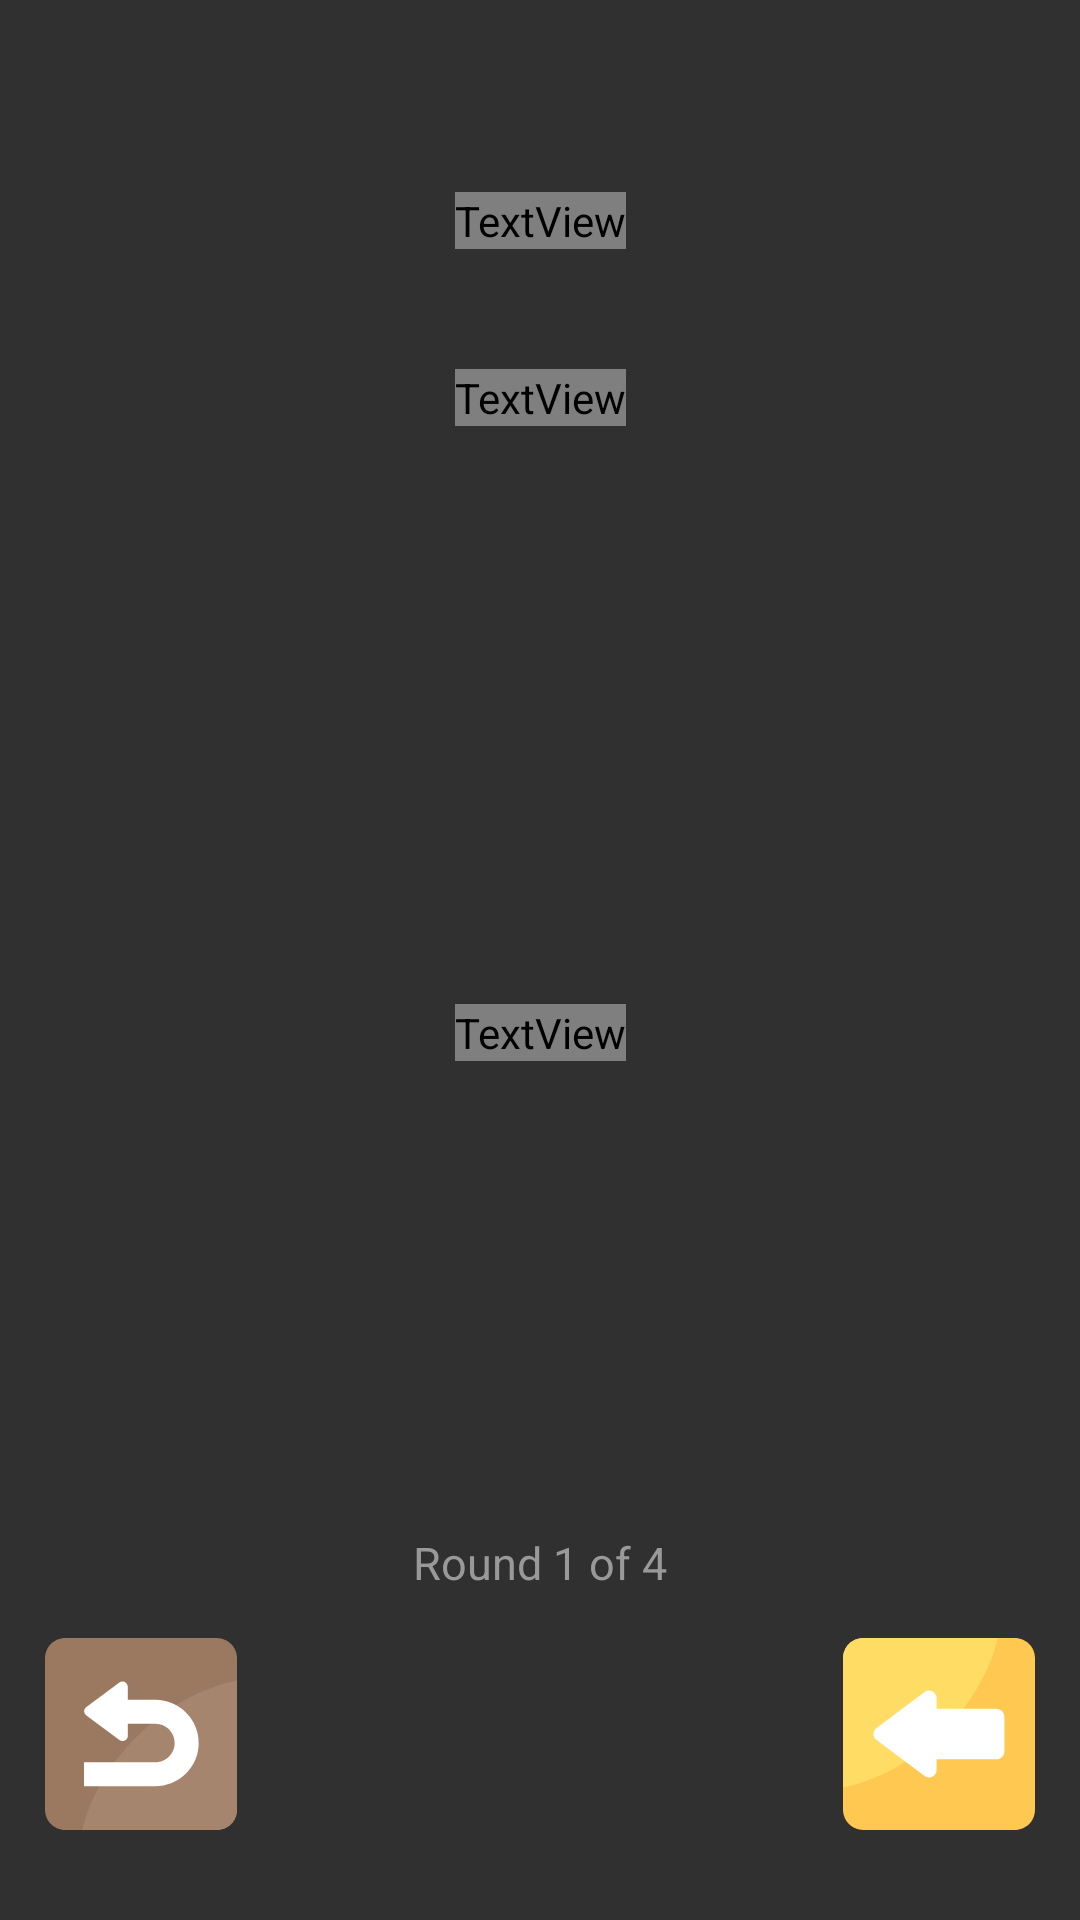

Icon click points for this 1080*1920 phone screenshot, format point (x, y):
left arrow: point (939, 1734)
